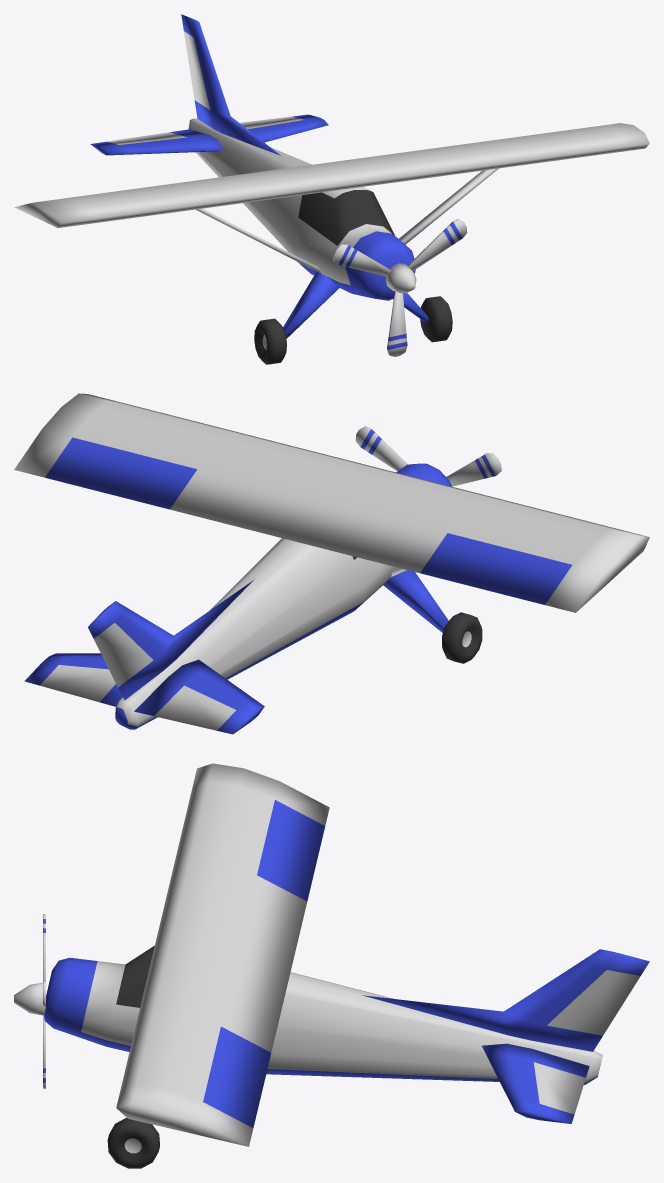
Rendered from airplane-new.glb.
3 views of the same model, one above another, from view 1: azimuth 30°, elevation 25°; view 2: azimuth 150°, elevation 25°; view 3: azimuth 270°, elevation 25° (orthographic). The views are drawn at different scales.
Visible parts, largest first — view 1: Plane, Circle.007; view 2: Plane, Circle.007; view 3: Plane, Circle.007.
Boxes of the visible parts, box(x1,y1,x2,y2) form: Plane: box(14, 14, 649, 364); Circle.007: box(333, 219, 467, 356); Plane: box(14, 393, 649, 734); Circle.007: box(355, 426, 501, 486); Plane: box(44, 763, 649, 1168); Circle.007: box(14, 914, 45, 1088).
Bounding box in the file's own units: 8.33 × 2.64 × 7.17.
